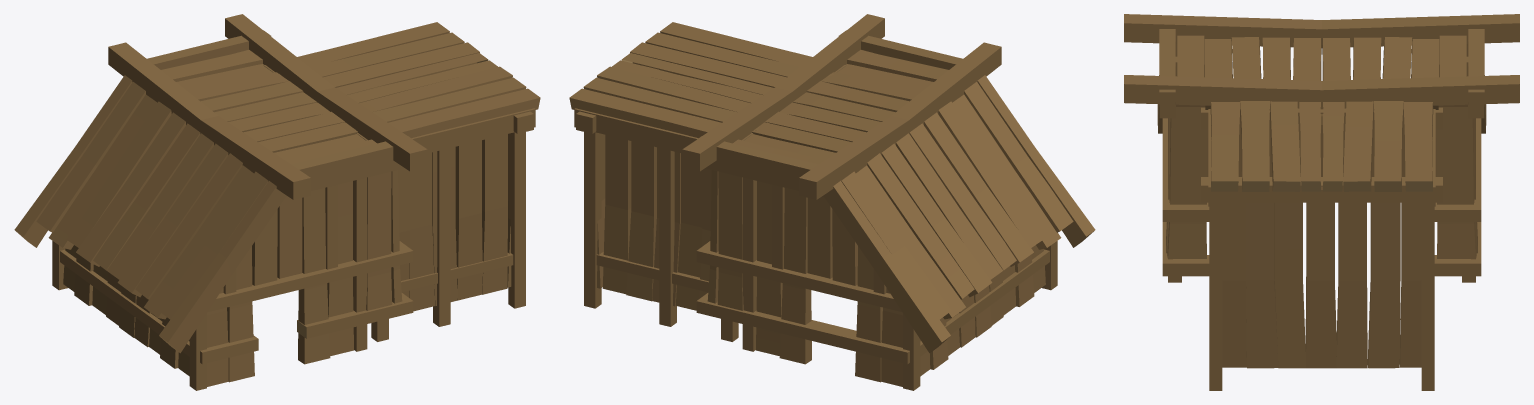
The model's file is hut.glb.
3 views of the same model, side by side, from view 1: azimuth 30°, elevation 25°; view 2: azimuth 150°, elevation 25°; view 3: azimuth 270°, elevation 25° (orthographic). The views are drawn at different scales.
Parts seen in each view (by area): view 1: Houses_FirstAge_2_Level3; view 2: Houses_FirstAge_2_Level3; view 3: Houses_FirstAge_2_Level3.
Boxes of the visible parts, x1,y1,x2,y2 form: Houses_FirstAge_2_Level3: (14, 14, 540, 390); Houses_FirstAge_2_Level3: (569, 14, 1095, 390); Houses_FirstAge_2_Level3: (1124, 14, 1519, 390).
Bounding box in the file's own units: 1.46 × 0.7685 × 1.17.
